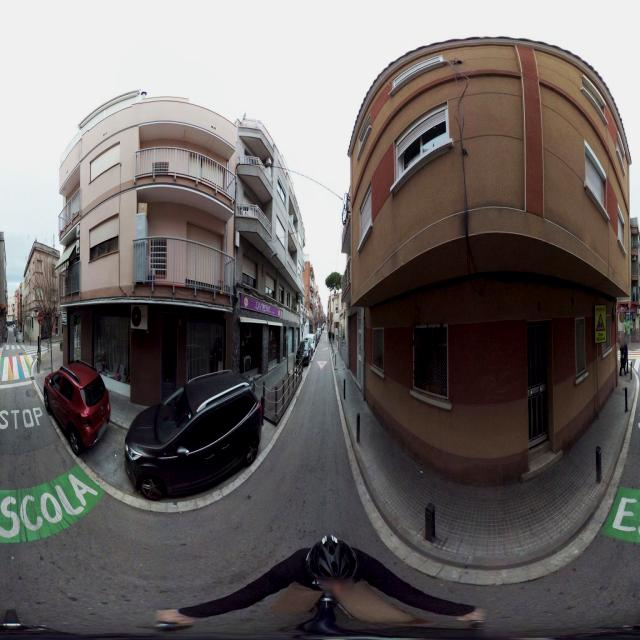car: (124, 374, 264, 501), (43, 359, 111, 454), (304, 334, 314, 357), (306, 333, 316, 353)
